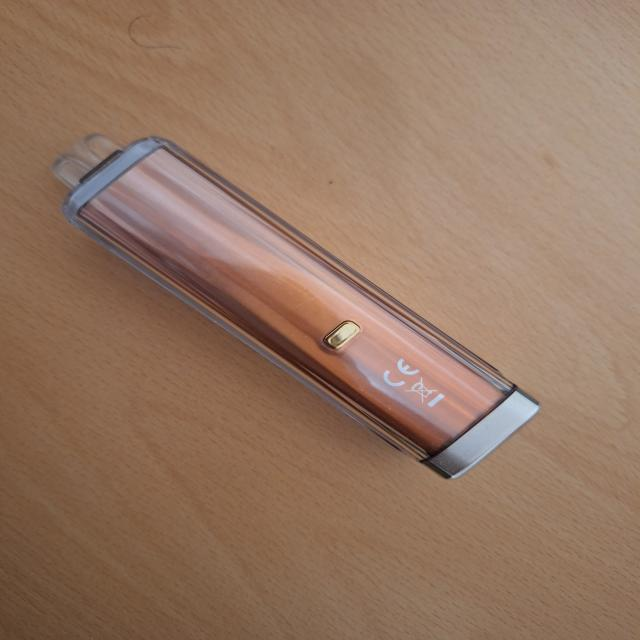Hazard: (52, 132, 541, 480)
